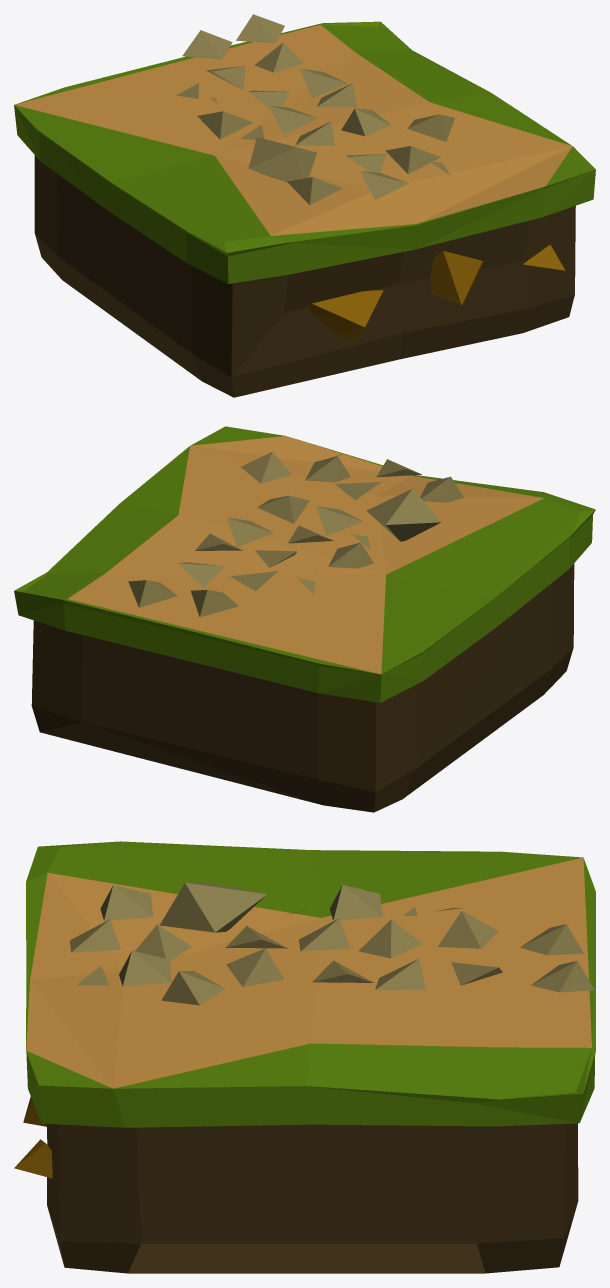
Rendered from RoadTile_Forward.fbx.
3 views of the same model, one above another, from view 1: azimuth 30°, elevation 25°; view 2: azimuth 150°, elevation 25°; view 3: azimuth 270°, elevation 25° (orthographic). The views are drawn at different scales.
Visible parts, largest first — view 1: DefaultGreenTile.003, RoadRocks.001, Rocks.002; view 2: DefaultGreenTile.003, RoadRocks.001; view 3: DefaultGreenTile.003, RoadRocks.001, Rocks.002.
Part boxes in pixels (x1=…): DefaultGreenTile.003: x1=14, y1=21, x2=595, y2=397; RoadRocks.001: x1=176, y1=14, x2=454, y2=204; Rocks.002: x1=309, y1=244, x2=565, y2=339; DefaultGreenTile.003: x1=14, y1=426, x2=595, y2=812; RoadRocks.001: x1=128, y1=451, x2=463, y2=617; DefaultGreenTile.003: x1=26, y1=841, x2=595, y2=1273; RoadRocks.001: x1=69, y1=882, x2=594, y2=1005; Rocks.002: x1=14, y1=1096, x2=52, y2=1178.
Size of the model in its own units: 19.39 by 19.96 by 9.4.
